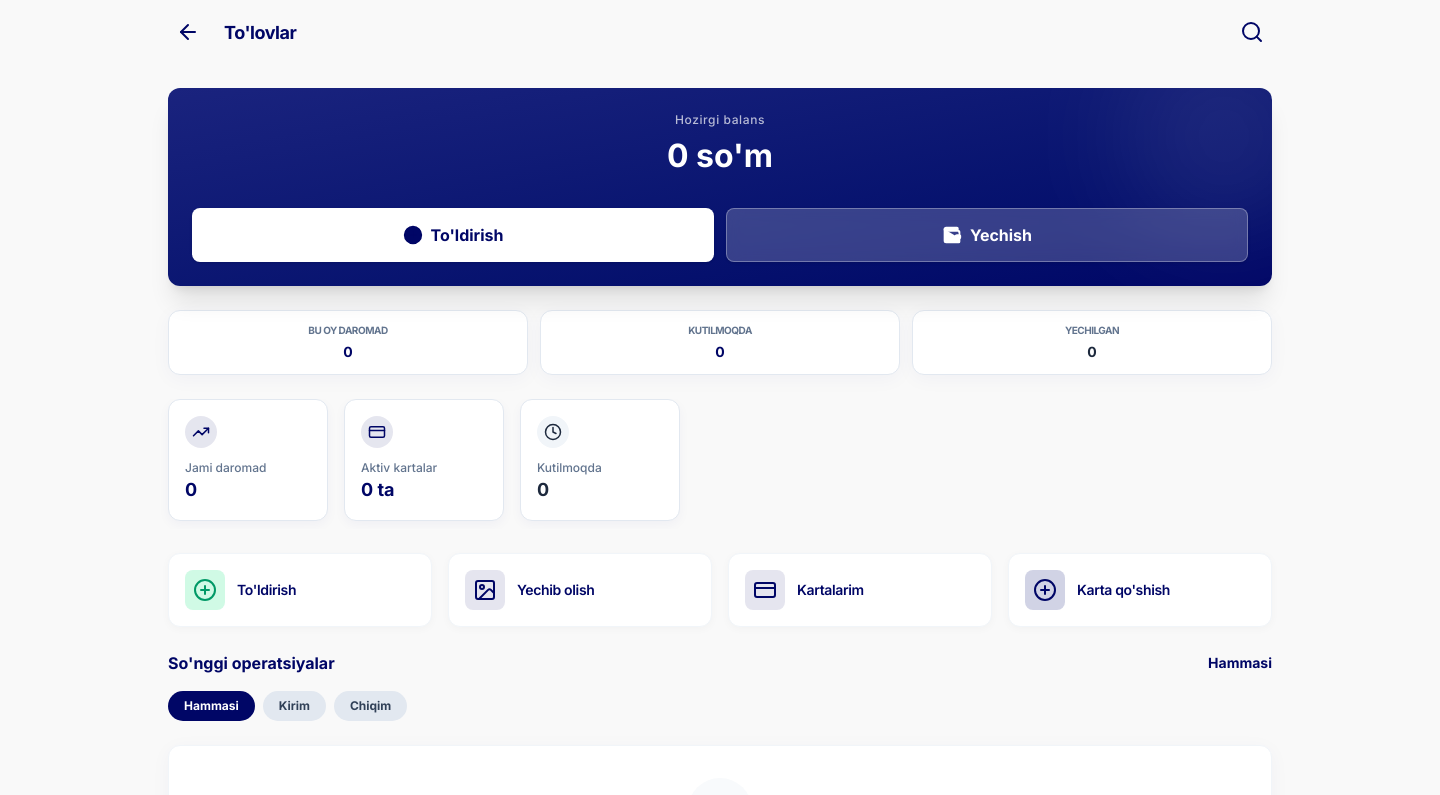
PaymentsScreen — the search control searches › reveals a search field when the magnifier is pressed
The image size is (1440, 795).
Expected: the field with placeholder "qidirish" is not shown
Click the button named "qidirish". click: (1252, 32)
box: [1232,12,1272,52]
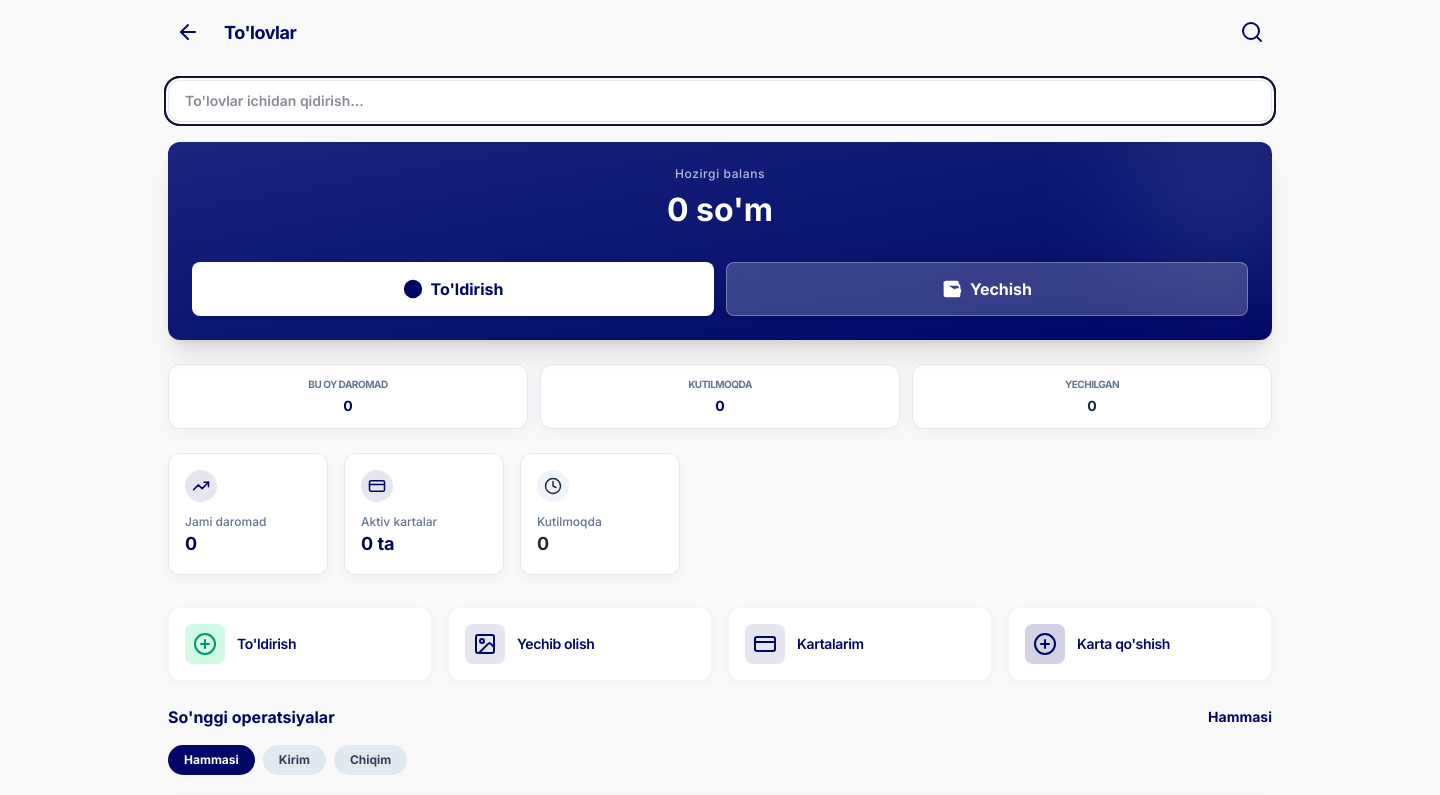
Result: the search field with placeholder "To'lovlar ichidan qidirish..." is shown at [168,80,1272,122]
